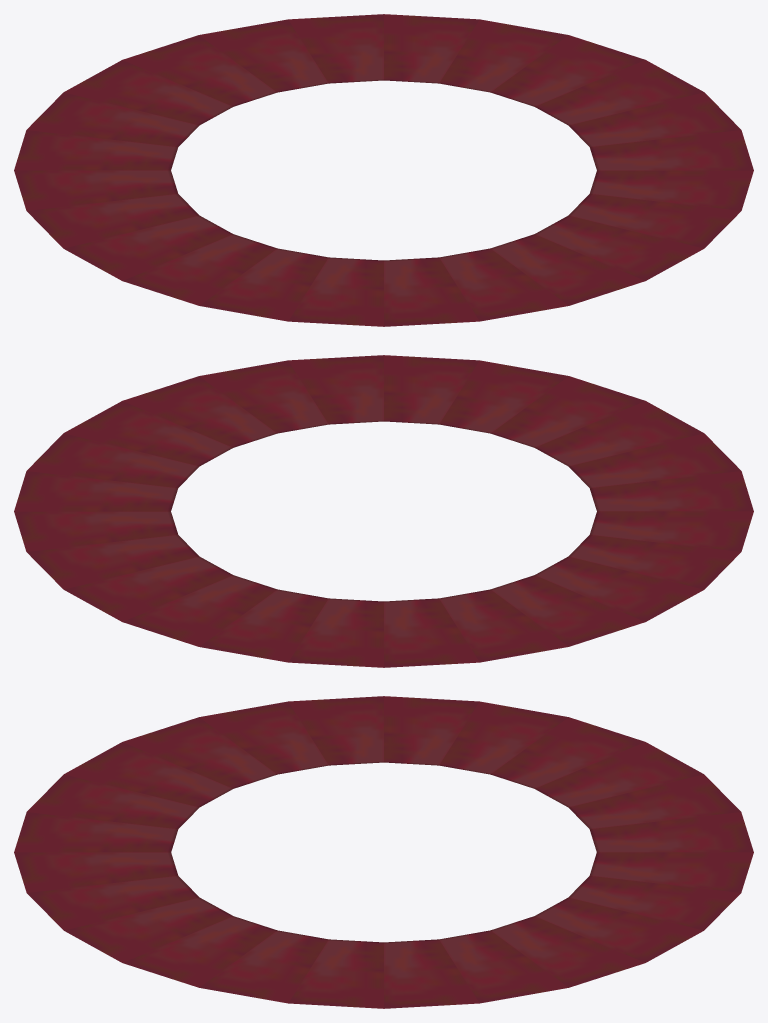
3 renders of one model, top to bottom at view 1: azimuth 30°, elevation 25°; view 2: azimuth 150°, elevation 25°; view 3: azimuth 270°, elevation 25°, orthographic.
Parts seen in each view (by area): view 1: T1L2M006_21; view 2: T1L2M006_21; view 3: T1L2M006_21.
Boxes of the visible parts, box(x1,y1,x2,y2) form: T1L2M006_21: box(14, 14, 753, 326); T1L2M006_21: box(14, 355, 753, 667); T1L2M006_21: box(14, 696, 753, 1008).
Bounding box in the file's own units: 3.43 × 0 × 3.43.
